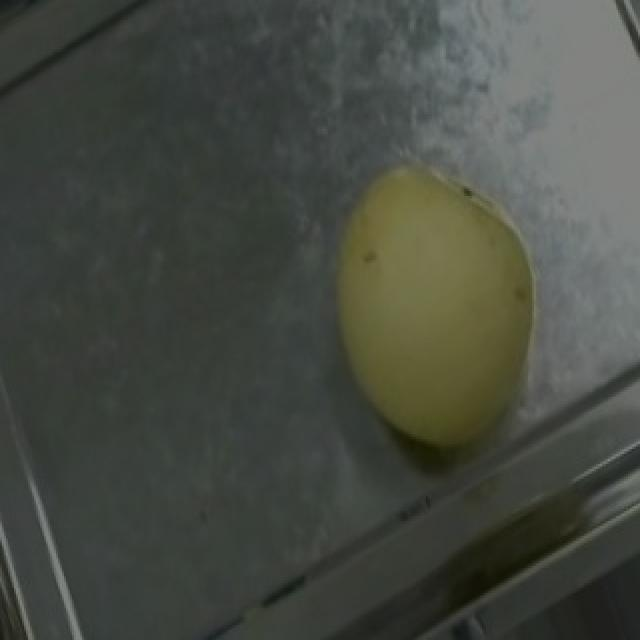Fruit: (282, 122, 590, 491)
